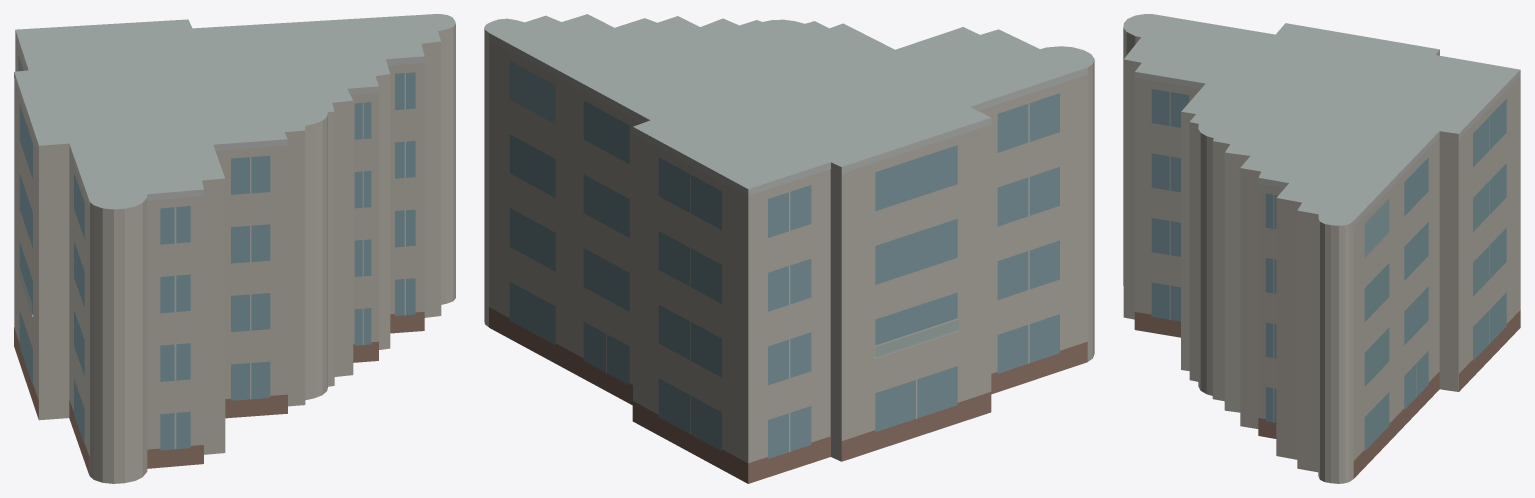
The model's file is survey-upis-32800761.glb.
The picture shows the model from 3 angles, left to right: view 1: azimuth 30°, elevation 25°; view 2: azimuth 150°, elevation 25°; view 3: azimuth 270°, elevation 25°; orthographic projection. The views are drawn at different scales.
Parts seen in each view (by area): view 1: survey-upis-32800761.tmp; view 2: survey-upis-32800761.tmp; view 3: survey-upis-32800761.tmp.
Part boxes in pixels (box(x1,y1,x2,y2)): survey-upis-32800761.tmp: box(14, 14, 455, 483); survey-upis-32800761.tmp: box(484, 14, 1094, 483); survey-upis-32800761.tmp: box(1123, 14, 1520, 483).
Bounding box in the file's own units: 18.48 × 10.5 × 14.65.
